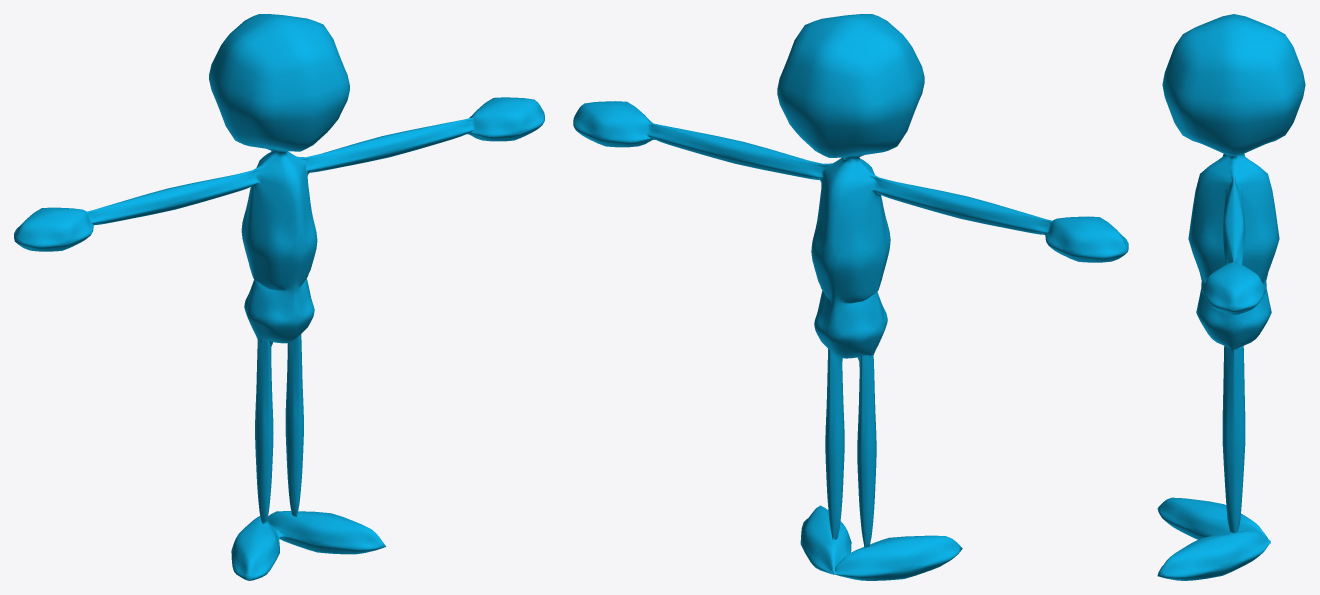
The model's file is Placeholder-Player.fbx.
3 views of the same model, side by side, from view 1: azimuth 30°, elevation 25°; view 2: azimuth 150°, elevation 25°; view 3: azimuth 270°, elevation 25° (orthographic). The views are drawn at different scales.
Parts seen in each view (by area): view 1: pCube12; view 2: pCube12; view 3: pCube12.
Boxes of the visible parts, box(x1,y1,x2,y2) form: pCube12: box(14, 14, 544, 580); pCube12: box(573, 14, 1128, 580); pCube12: box(1157, 14, 1305, 580).
Bounding box in the file's own units: 12.29 × 11.8 × 2.95.
